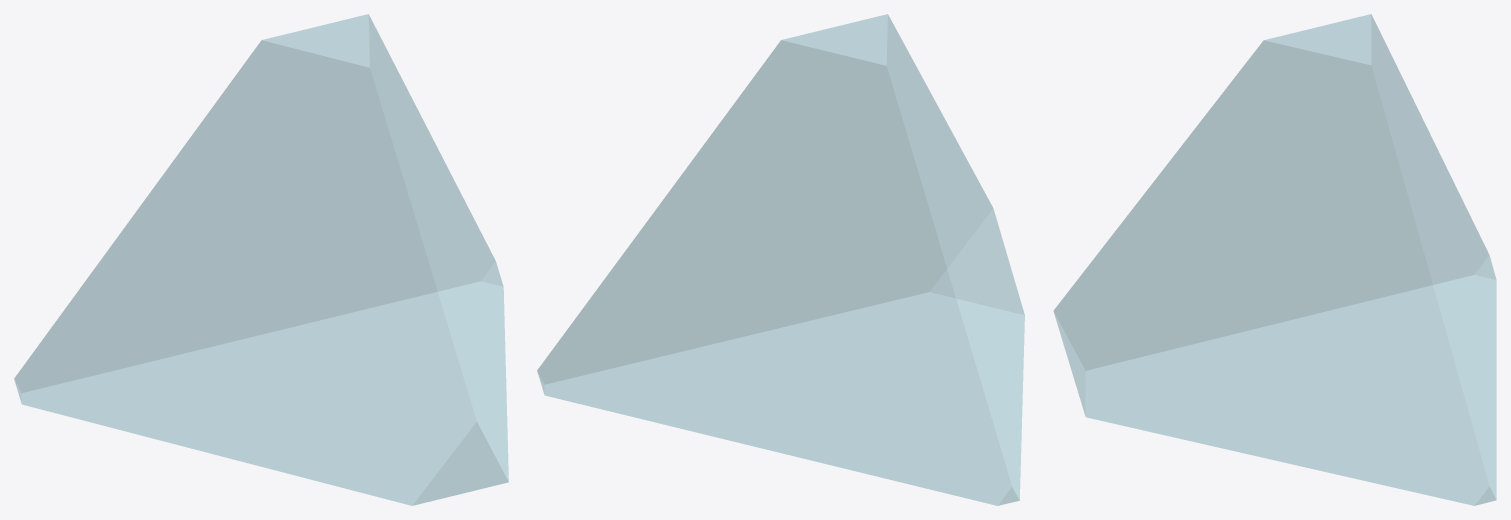
The model's file is 36_oxygen.glb.
3 renders of one model, left to right at view 1: azimuth 30°, elevation 25°; view 2: azimuth 150°, elevation 25°; view 3: azimuth 270°, elevation 25°, orthographic.
Size of the model in its own units: 3.23 by 2.31 by 2.62.
